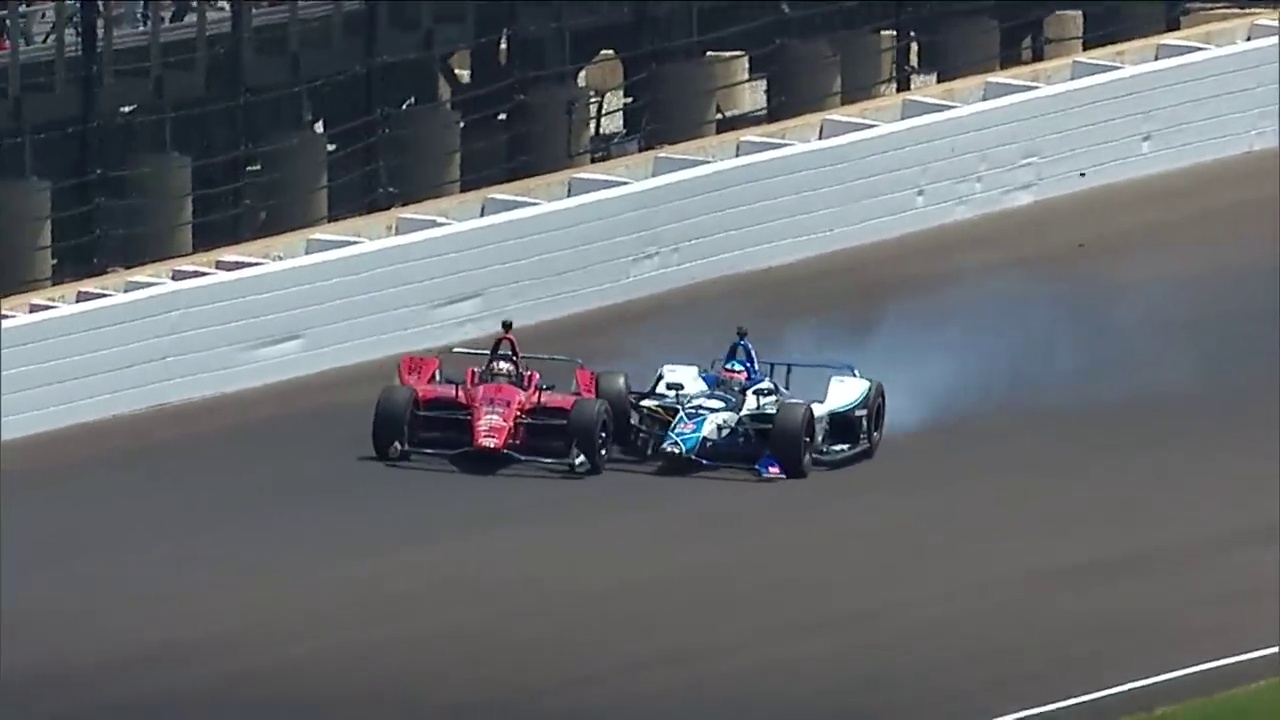car: (600, 324, 900, 483), (352, 315, 597, 480)
